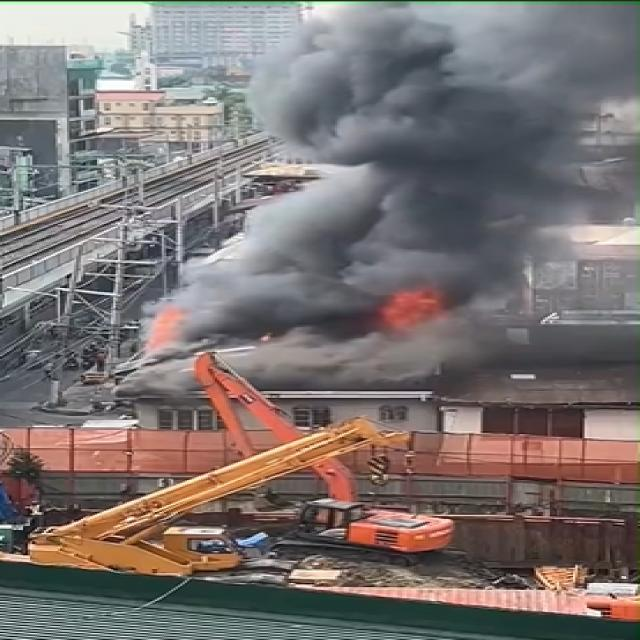Fire: (387, 287, 445, 329), (150, 313, 185, 346)
Smoke: (134, 0, 640, 383)
